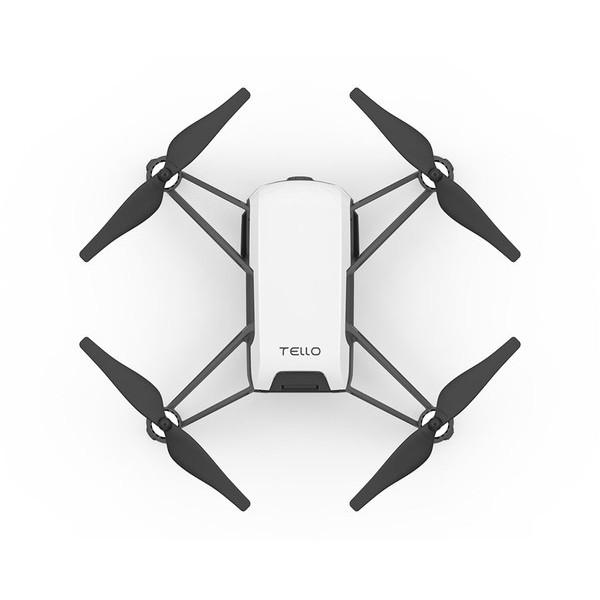drone: (74, 84, 526, 526)
